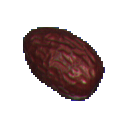gd: (13, 14, 109, 114)
